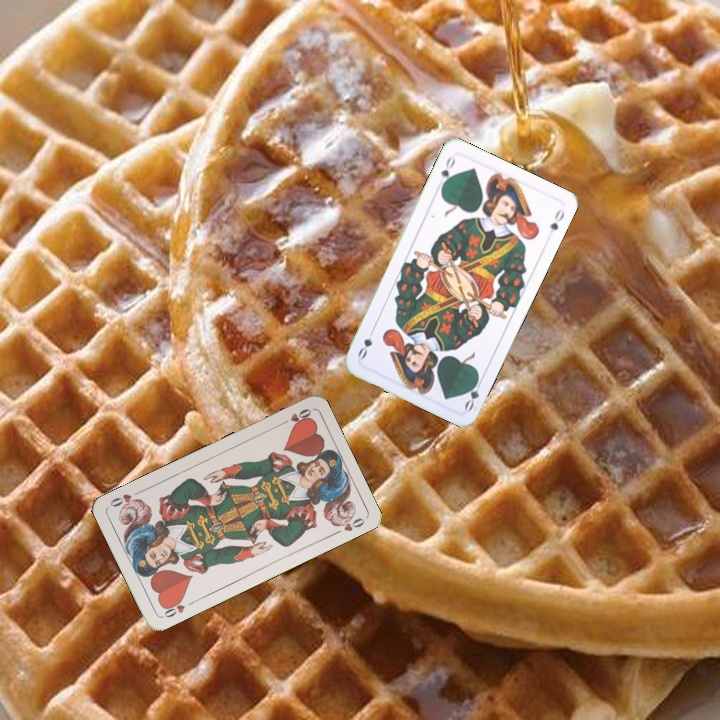GO: (460, 373, 485, 413), (437, 152, 458, 191)
HO: (159, 594, 197, 621), (276, 404, 314, 429)
